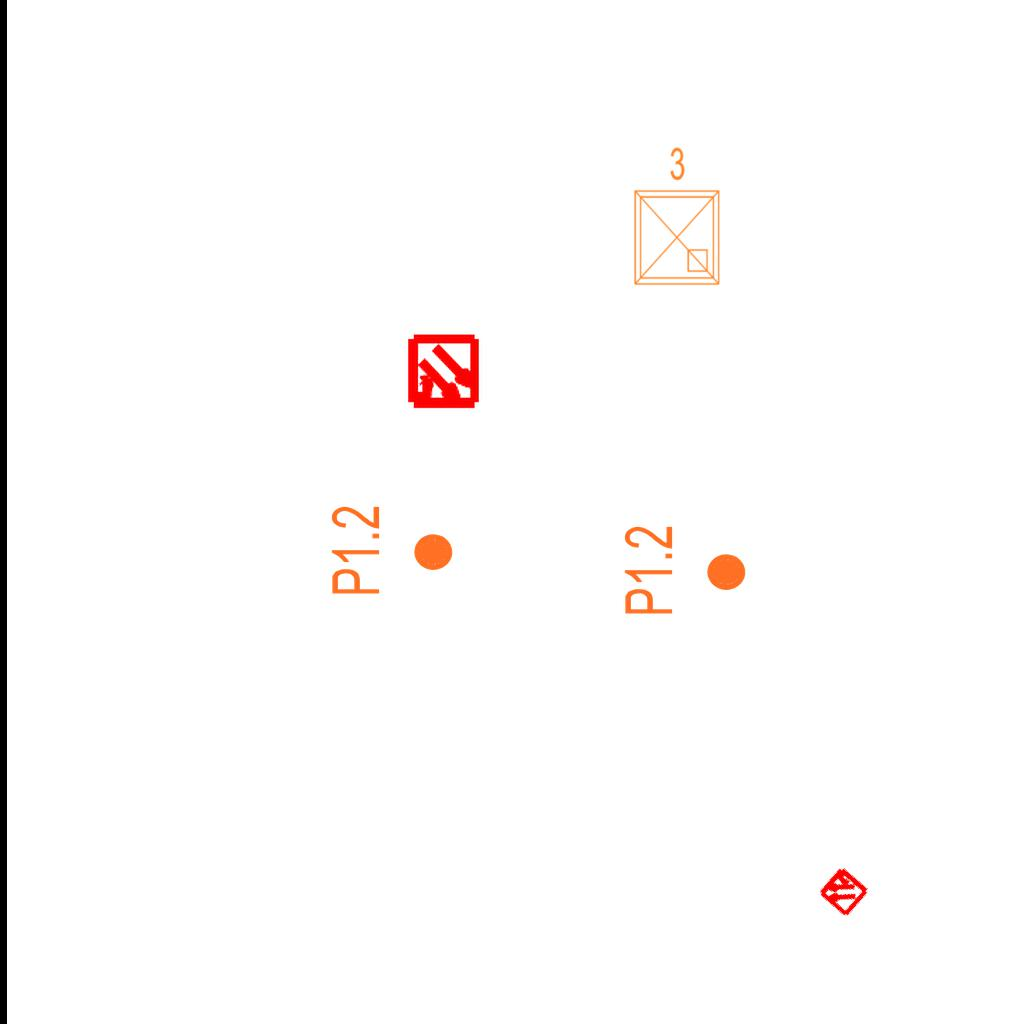Downlight_LED_Einbauleuchten_Flur: (328, 504, 456, 597), (621, 524, 749, 617)
Einbaudownlights_LED_Konferenzraeume: (623, 142, 727, 292)
OT_Multisensormelder_(Kombination_RMO_WMD): (387, 317, 500, 430), (803, 851, 883, 931)
